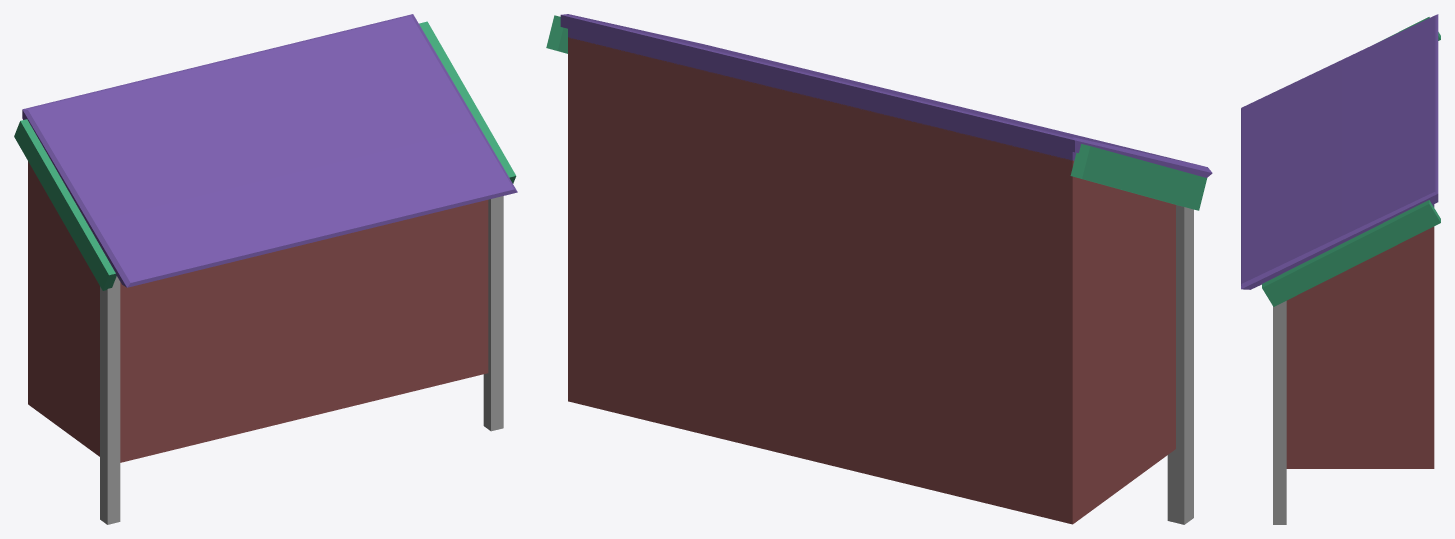
The model's file is model_HouseWall_low.fbx.
The picture shows the model from 3 angles, left to right: view 1: azimuth 30°, elevation 25°; view 2: azimuth 150°, elevation 25°; view 3: azimuth 270°, elevation 25°; orthographic projection. The views are drawn at different scales.
Visible parts, largest first — view 1: pasted__pCube10, pasted__pCube9, pasted__pCube111, pasted__pCube106, pasted__pCube110, pasted__pCube105; view 2: pasted__pCube9, pasted__pCube10, pasted__pCube111, pasted__pCube110; view 3: pasted__pCube10, pasted__pCube9, pasted__pCube105, pasted__pCube106.
Part boxes in pixels (x1,y1,x2,y2): pasted__pCube10: [22, 14, 517, 287]; pasted__pCube9: [28, 161, 488, 462]; pasted__pCube111: [100, 276, 120, 524]; pasted__pCube106: [483, 196, 503, 431]; pasted__pCube110: [14, 119, 116, 290]; pasted__pCube105: [419, 21, 516, 183]; pasted__pCube9: [568, 37, 1175, 524]; pasted__pCube10: [560, 14, 1212, 177]; pasted__pCube111: [1167, 205, 1193, 524]; pasted__pCube110: [1070, 144, 1207, 210]; pasted__pCube10: [1241, 14, 1438, 289]; pasted__pCube9: [1286, 226, 1434, 468]; pasted__pCube105: [1262, 200, 1440, 306]; pasted__pCube106: [1273, 301, 1286, 524].
Bounding box in the file's own units: 425 × 349 × 192.
